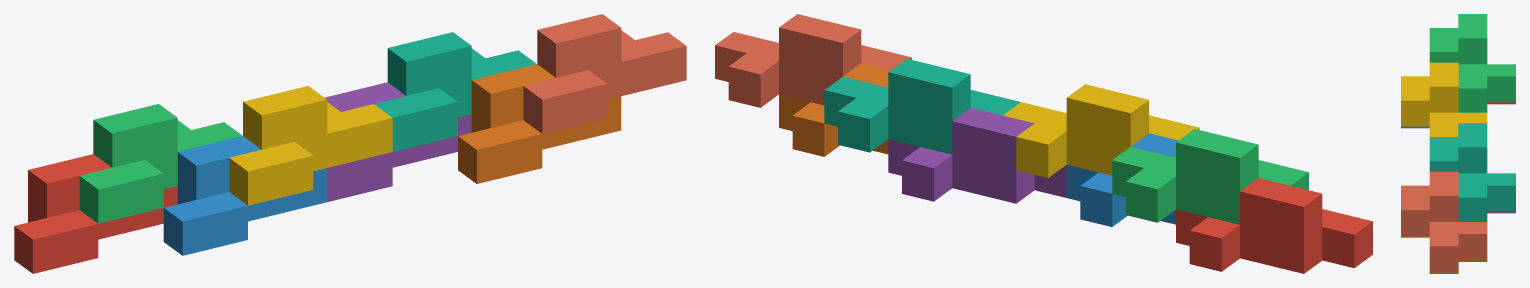
File: tiling.obj
3 renders of one model, left to right at view 1: azimuth 30°, elevation 25°; view 2: azimuth 150°, elevation 25°; view 3: azimuth 270°, elevation 25°, orthographic. The views are drawn at different scales.
Parts seen in each view (by area): view 1: copy_1_domain_8, copy_1_domain_4, copy_1_domain_3, copy_1_domain_7, copy_1_domain_2, copy_1_domain_6, copy_1_domain_1, copy_1_domain_5; view 2: copy_1_domain_1, copy_1_domain_3, copy_1_domain_7, copy_1_domain_8, copy_1_domain_4, copy_1_domain_5, copy_1_domain_2, copy_1_domain_6; view 3: copy_1_domain_8, copy_1_domain_3, copy_1_domain_7, copy_1_domain_4, copy_1_domain_6, copy_1_domain_1, copy_1_domain_2, copy_1_domain_5.
Boxes of the visible parts, x1,y1,x2,y2 form: copy_1_domain_8: (523,14,686,133); copy_1_domain_4: (229,86,392,205); copy_1_domain_3: (79,104,242,223); copy_1_domain_7: (374,32,536,151); copy_1_domain_2: (163,136,327,255); copy_1_domain_6: (458,64,621,183); copy_1_domain_1: (14,154,177,273); copy_1_domain_5: (325,82,471,201); copy_1_domain_1: (1176,178,1372,273); copy_1_domain_3: (1112,129,1308,224); copy_1_domain_7: (824,59,1020,154); copy_1_domain_8: (715,14,911,107); copy_1_domain_4: (1003,84,1199,177); copy_1_domain_5: (888,108,1066,203); copy_1_domain_2: (1066,133,1178,226); copy_1_domain_6: (779,63,890,156); copy_1_domain_8: (1401,171,1487,272); copy_1_domain_3: (1429,14,1515,112); copy_1_domain_7: (1429,123,1515,221); copy_1_domain_4: (1401,62,1487,136); copy_1_domain_6: (1401,236,1487,273); copy_1_domain_1: (1487,102,1515,104); copy_1_domain_2: (1401,126,1429,128); copy_1_domain_5: (1487,211,1515,213).
Size of the model in its own units: 20 by 3 by 4.
